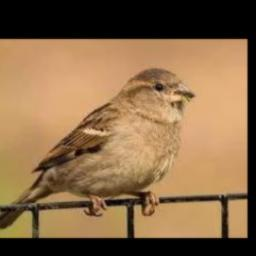Sparrow: (0, 68, 195, 229)
